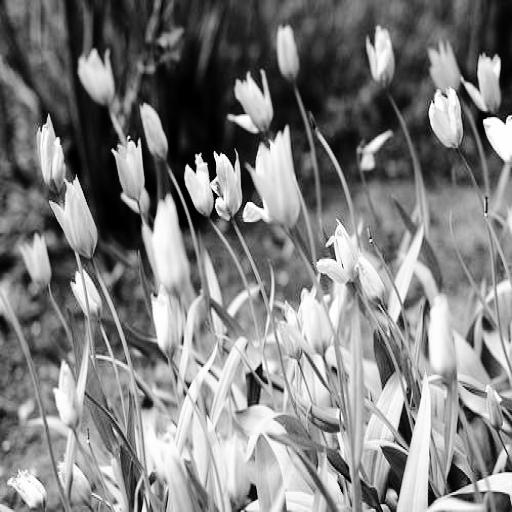tulip: (50, 177, 97, 259)
